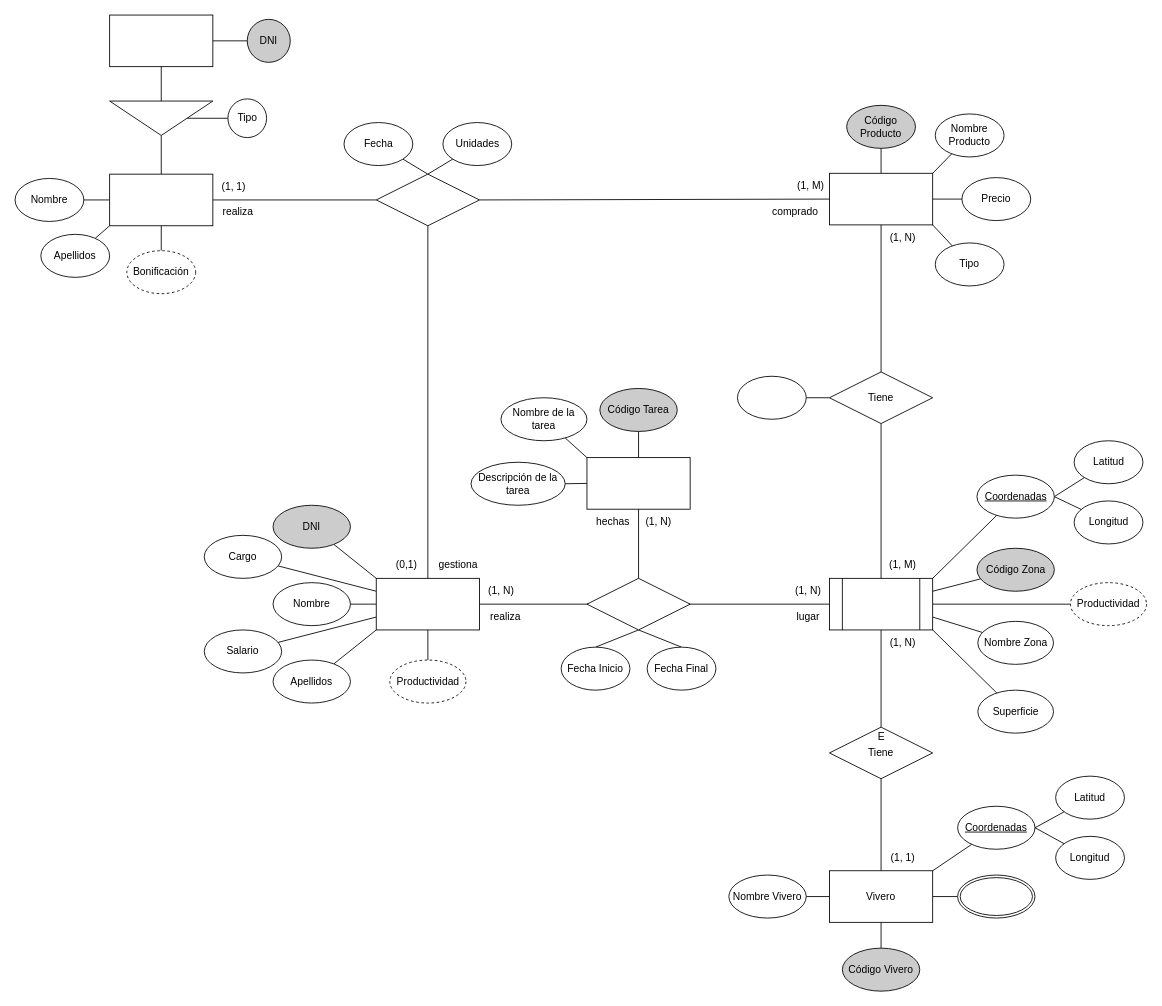
This 1162x1006 diagram has some shape labels left out. Here are the shapes that lost their labels. From the top down, the centre of each, then its label:
pixel 161 40: Cliente
pixel 161 199: Cliente Tajinaste PLus
pixel 427 199: Pedido
pixel 881 198: Producto
pixel 771 397: Unidades Stock
pixel 638 483: Tarea
pixel 427 603: Empleado
pixel 638 603: Puesto
pixel 881 603: Zona
pixel 996 896: Teléfono
